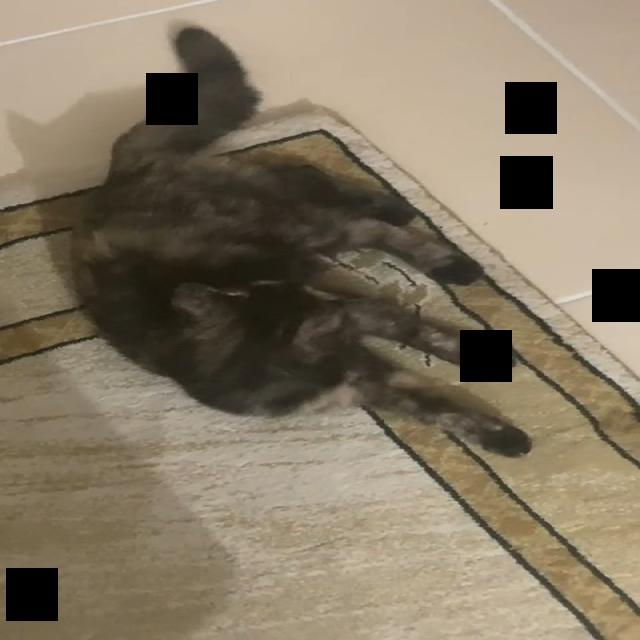authorized: (67, 19, 533, 459)
